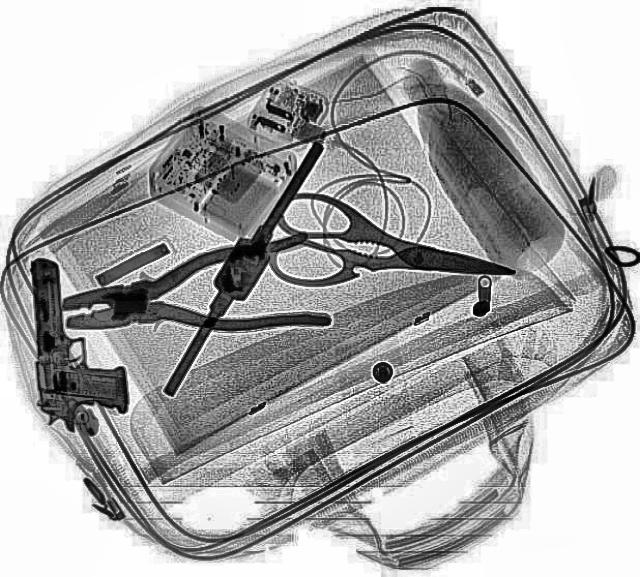Gun: (29, 256, 126, 432)
Pliers: (52, 232, 330, 360)
Scissors: (258, 187, 526, 319)
